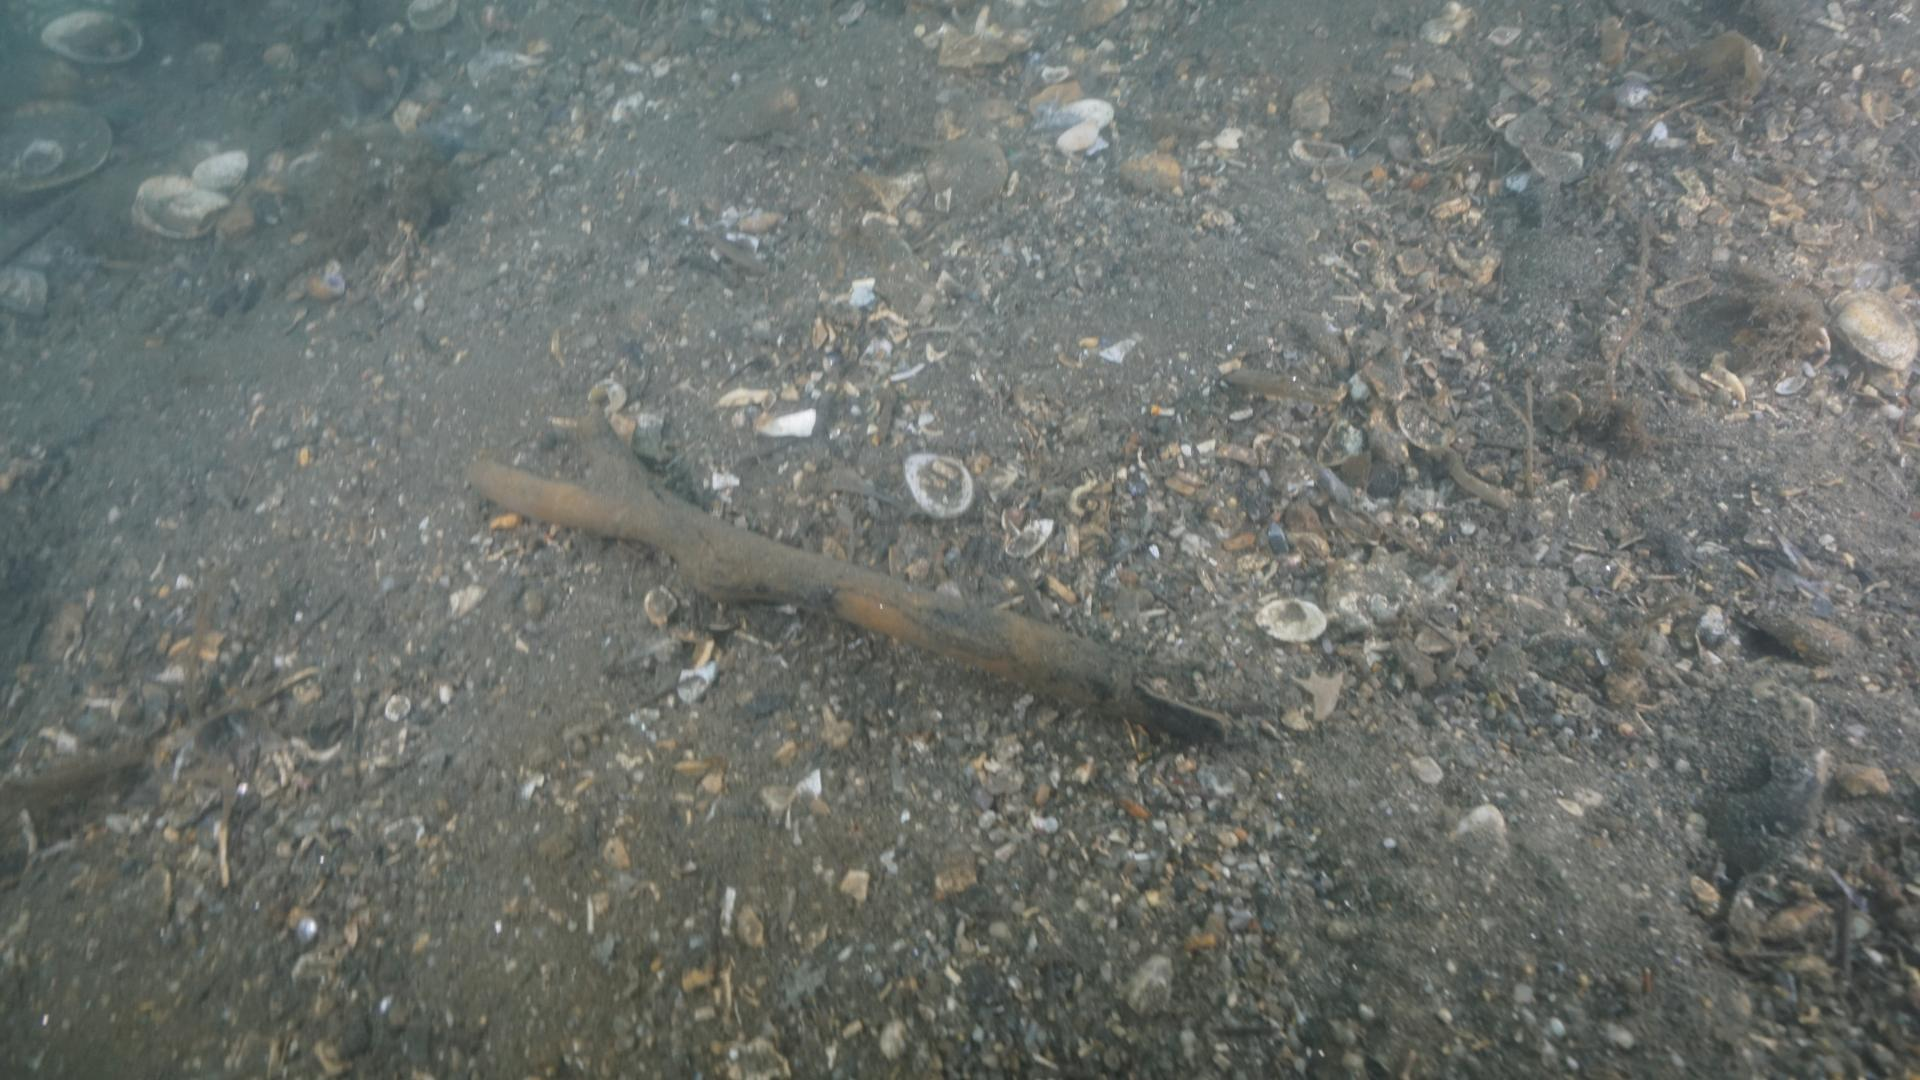wood: (462, 400, 1234, 746)
